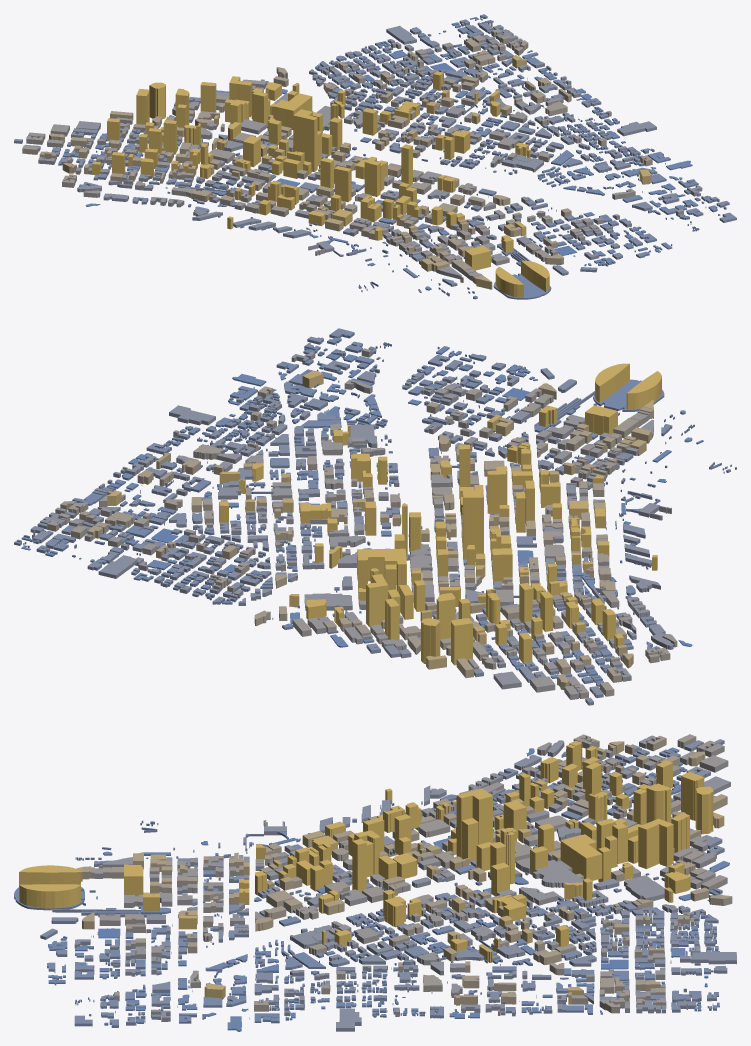
The model's file is buildings.glb.
The picture shows the model from 3 angles, top to bottom: view 1: azimuth 30°, elevation 25°; view 2: azimuth 150°, elevation 25°; view 3: azimuth 270°, elevation 25°; orthographic projection. The views are drawn at different scales.
Parts seen in each view (by area): view 1: buildings; view 2: buildings; view 3: buildings.
Boxes of the visible parts, bbox=[...] form: buildings: bbox=[14, 14, 736, 299]; buildings: bbox=[14, 328, 736, 705]; buildings: bbox=[14, 734, 736, 1031].
Bounding box in the file's own units: 2585 × 304 × 2614.
